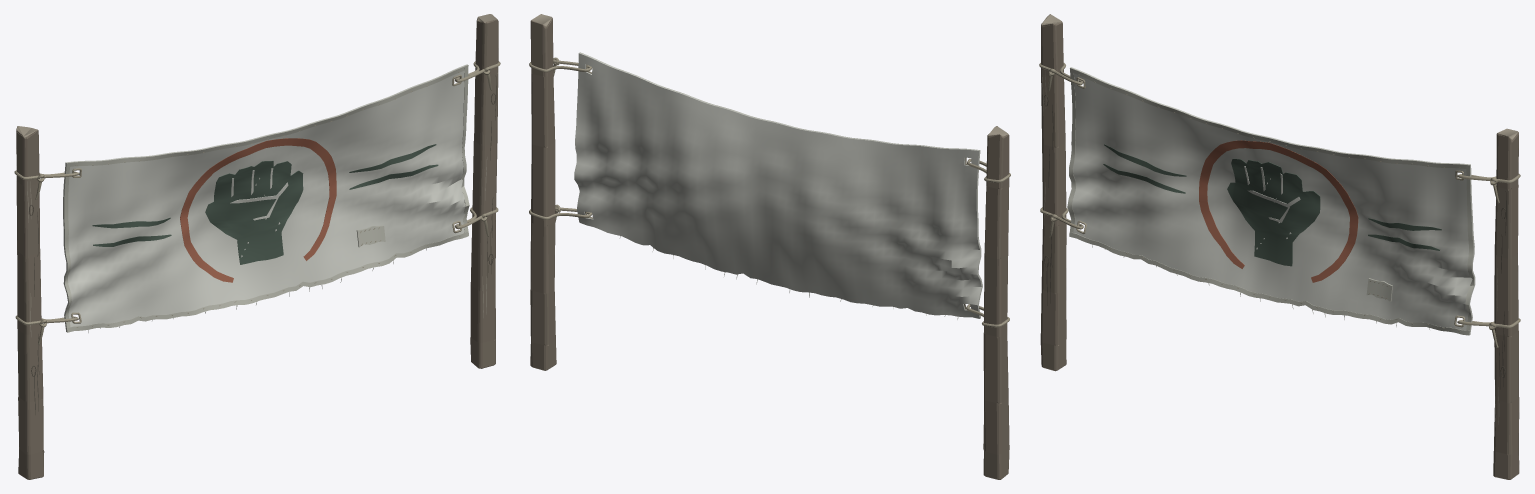
The model's file is protest_banner-Dm2fiWBV.glb.
3 renders of one model, left to right at view 1: azimuth 30°, elevation 25°; view 2: azimuth 150°, elevation 25°; view 3: azimuth 330°, elevation 25°, orthographic.
Parts seen in each view (by area): view 1: Body; view 2: Body; view 3: Body.
Boxes of the visible parts, bbox=[...] form: Body: bbox=[14, 14, 500, 479]; Body: bbox=[529, 14, 1010, 479]; Body: bbox=[1039, 14, 1520, 479].
Bounding box in the file's own units: 2 × 1.39 × 0.1409.
